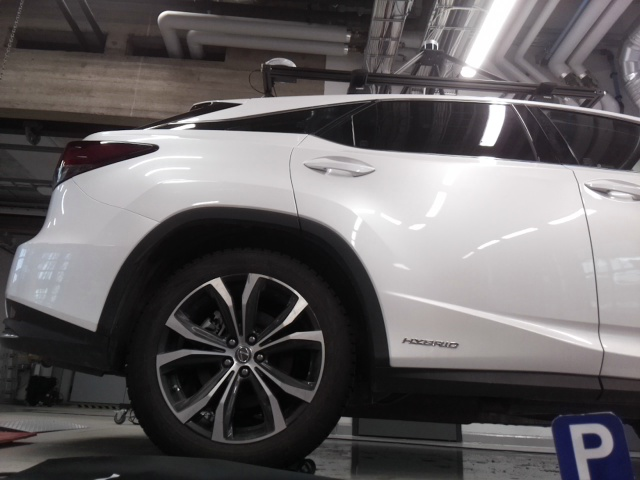Parking: (550, 415, 632, 479)
